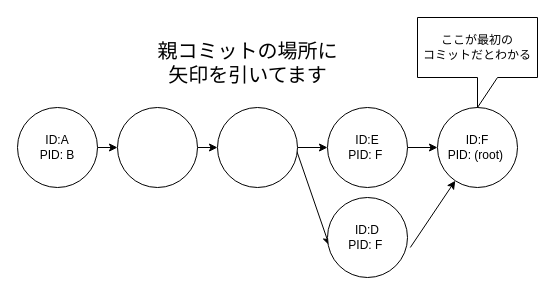
Some shapes in this 555 by 295 pixel diagram are drawn without their labels. The shapes that lost their labels are listed below. From the top down, each one's centre as x and y in pixels, then its label:
At (157,147): "ID:B PID: C".
At (257,147): "ID:C PID: D,E".
